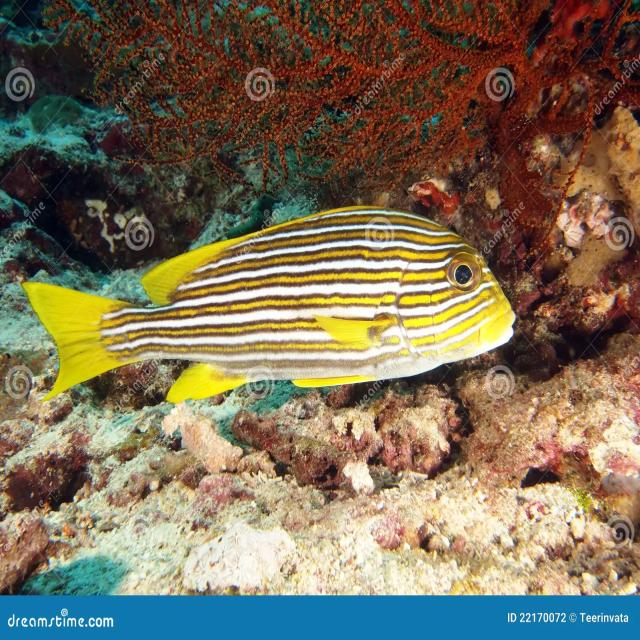RibbonedSweetlips: (20, 204, 517, 406)
